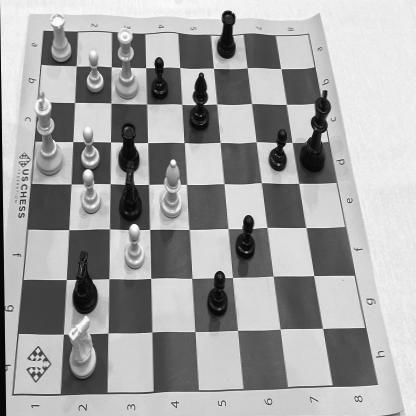black-bishop: (186, 68, 213, 137)
black-king: (295, 82, 335, 177)
black-knight: (70, 246, 100, 318), (114, 158, 144, 224)
black-pawn: (204, 268, 232, 320), (232, 210, 258, 264), (146, 53, 170, 102), (266, 126, 290, 173)
black-rook: (116, 119, 144, 180), (215, 8, 239, 64)
white-bishop: (154, 153, 184, 223)
white-king: (29, 82, 66, 181)
white-knight: (62, 312, 102, 383)
white-pawn: (118, 218, 147, 272), (76, 166, 104, 216), (74, 124, 100, 172), (83, 50, 107, 98)
white-queen: (114, 23, 142, 104)
white-rook: (46, 8, 74, 67)
